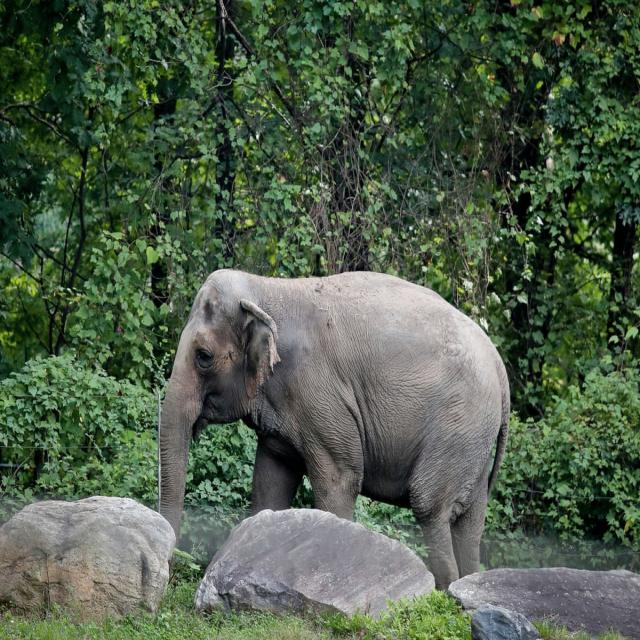elephant: (161, 269, 510, 589)
